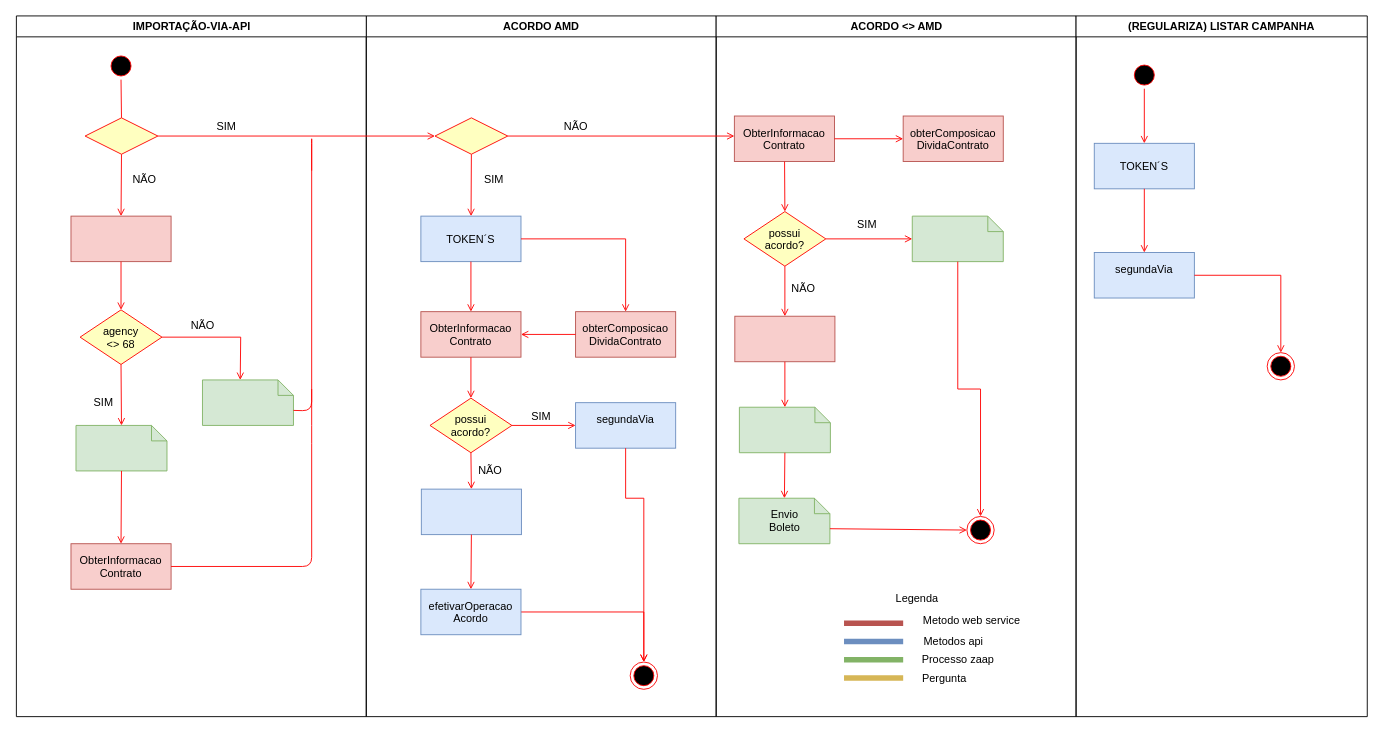
The diagram is 1383 pixels wide and 733 high, and some of its shapes have lost their labels. Here are the shapes that lost their labels. From the top down, the centre of each, then its label:
At (x=121, y=135): "CPF/BASE".
At (x=471, y=135): "AMD ?".
At (x=120, y=238): "ObterInformacao Cliente".
At (x=957, y=238): "segunda via banco dados".
At (x=784, y=338): "criarAcordo".
At (x=247, y=402): "CREDOR 001".
At (x=121, y=448): "CREDOR 023".
At (x=784, y=429): "Montagem boleto".
At (x=470, y=511): "simularOperacao Acordo".
